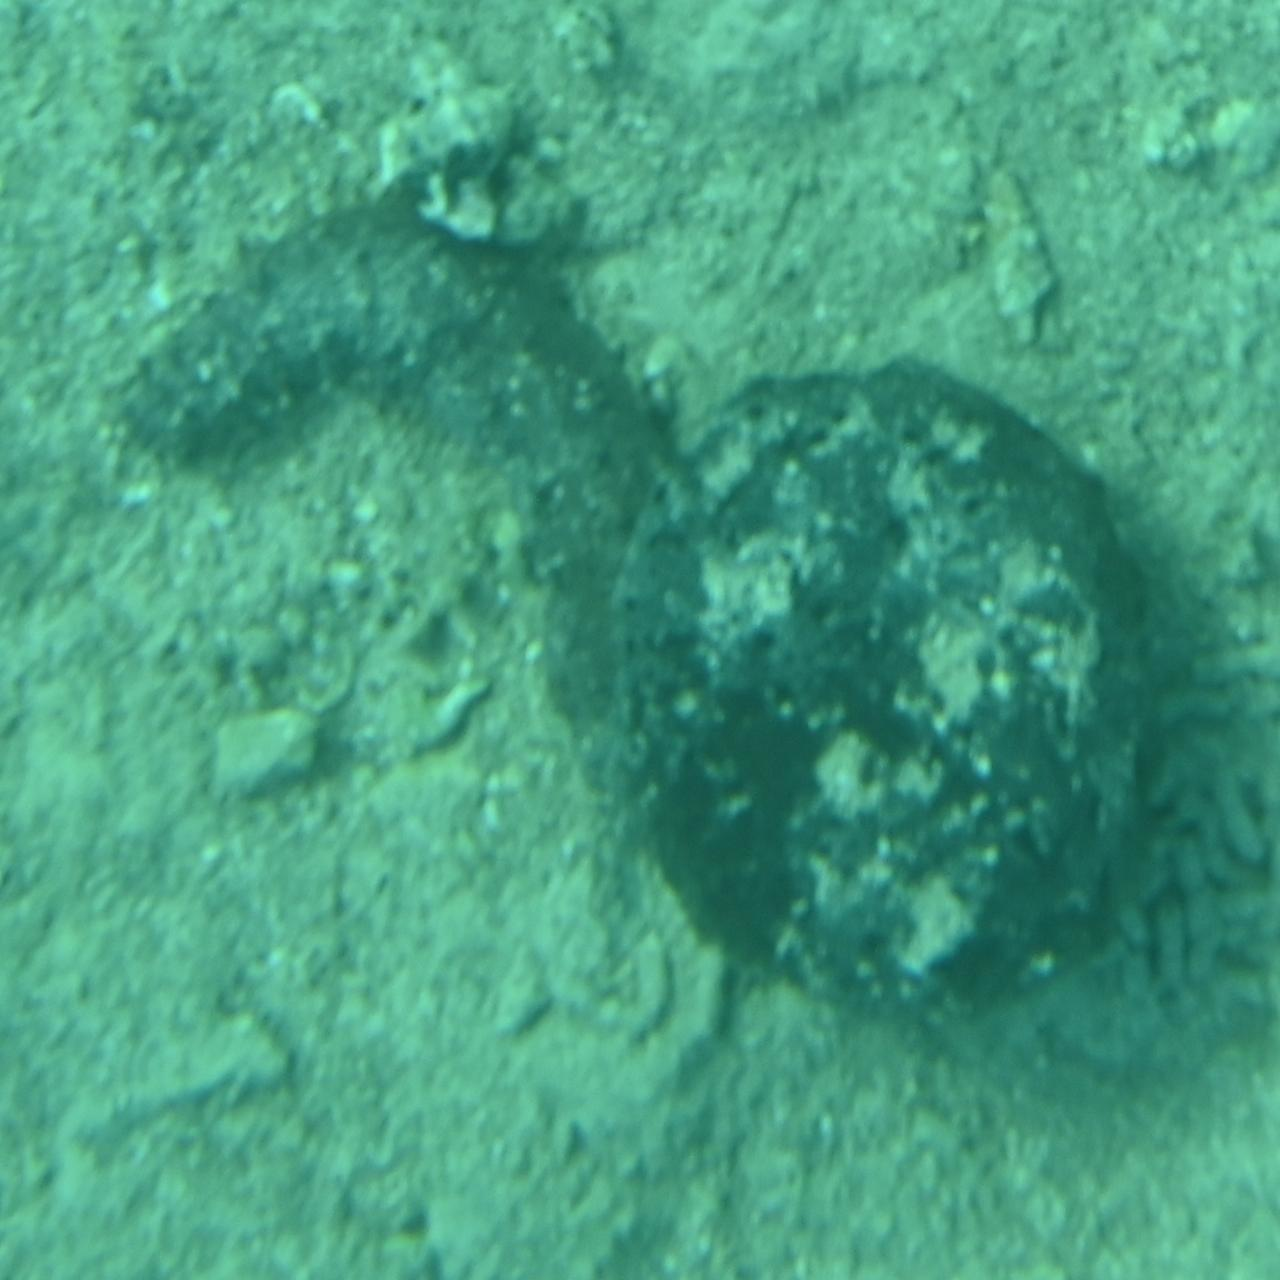Holothuria tubulosa: (93, 195, 683, 971)
Keratosa -cfr Sarcotragus-: (607, 355, 1178, 1041)
